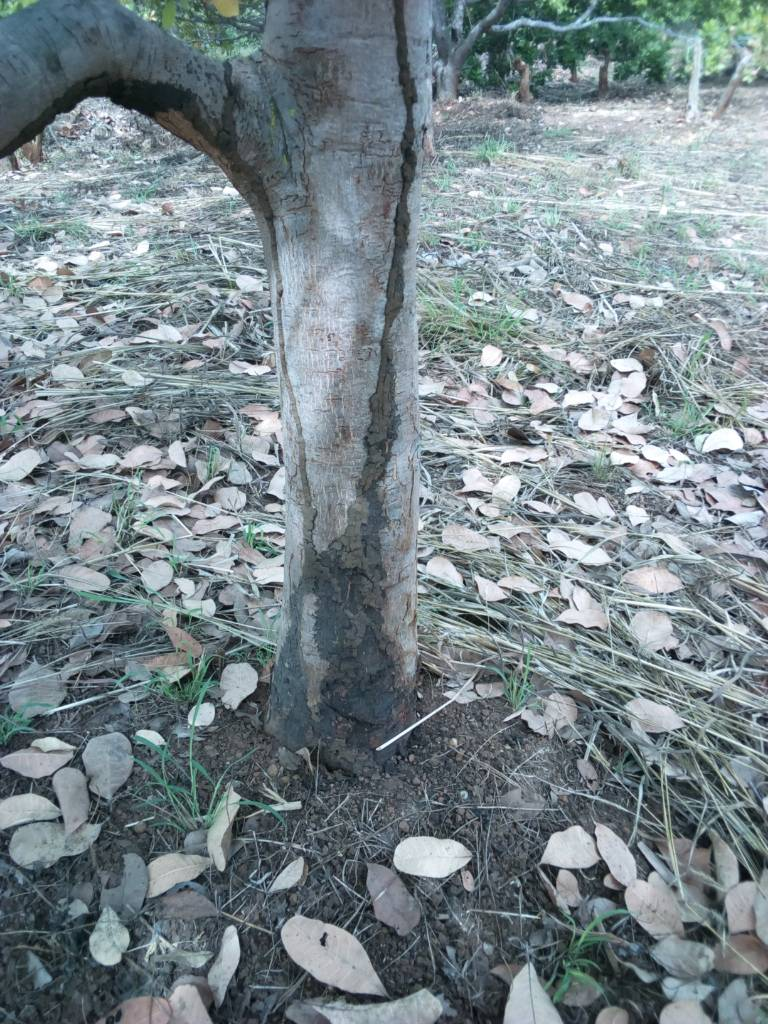Termites: (296, 367, 399, 739), (386, 55, 416, 357)
